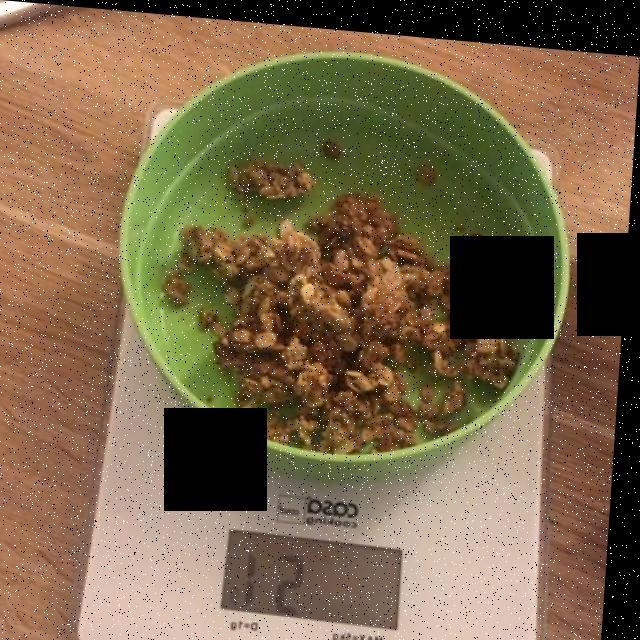crunch-muesli: (181, 190, 519, 441)
